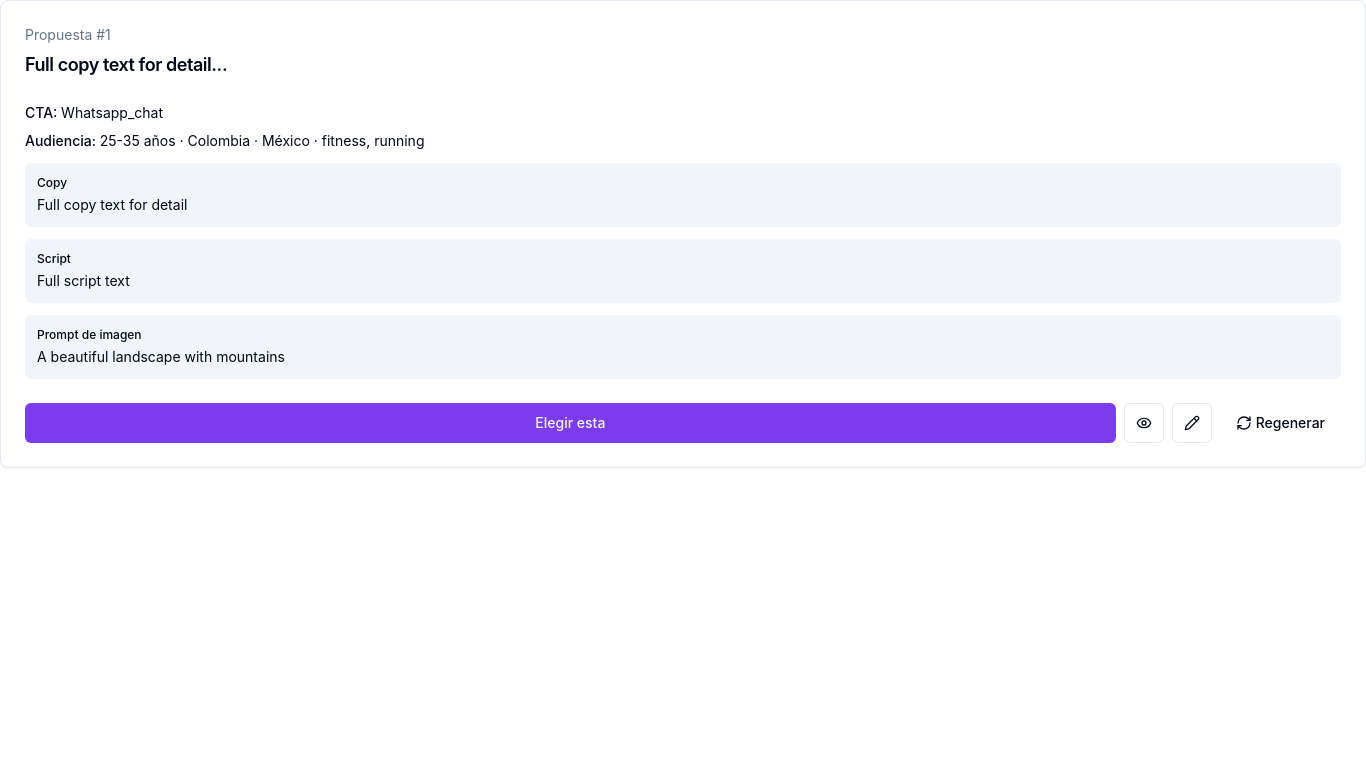
Test: Detail View › opens detail modal with all proposal data when clicking View Details
Click the button titled "Ver detalles" at (1144, 423), box [1124, 403, 1164, 443]
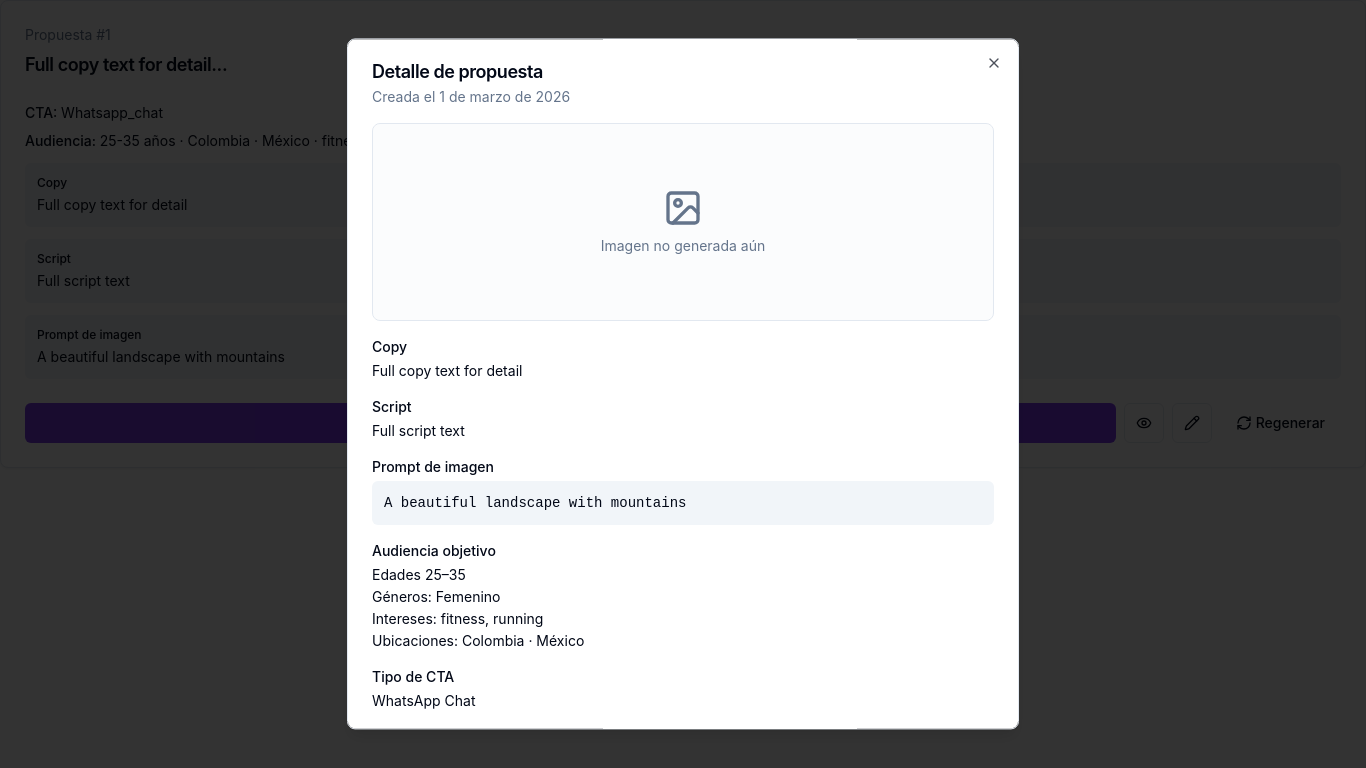
Check: the heading "Detalle de propuesta" is shown, box [372, 61, 543, 82]
Check: the text "Full copy text for detail" is shown, box [372, 362, 522, 379]
Check: the text "Full script text" is shown, box [372, 422, 465, 439]
